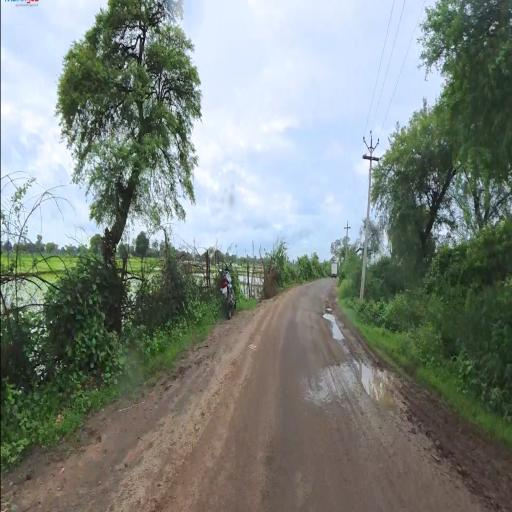edge_damage: (378, 374, 472, 495)
ravelling: (132, 370, 245, 497)
